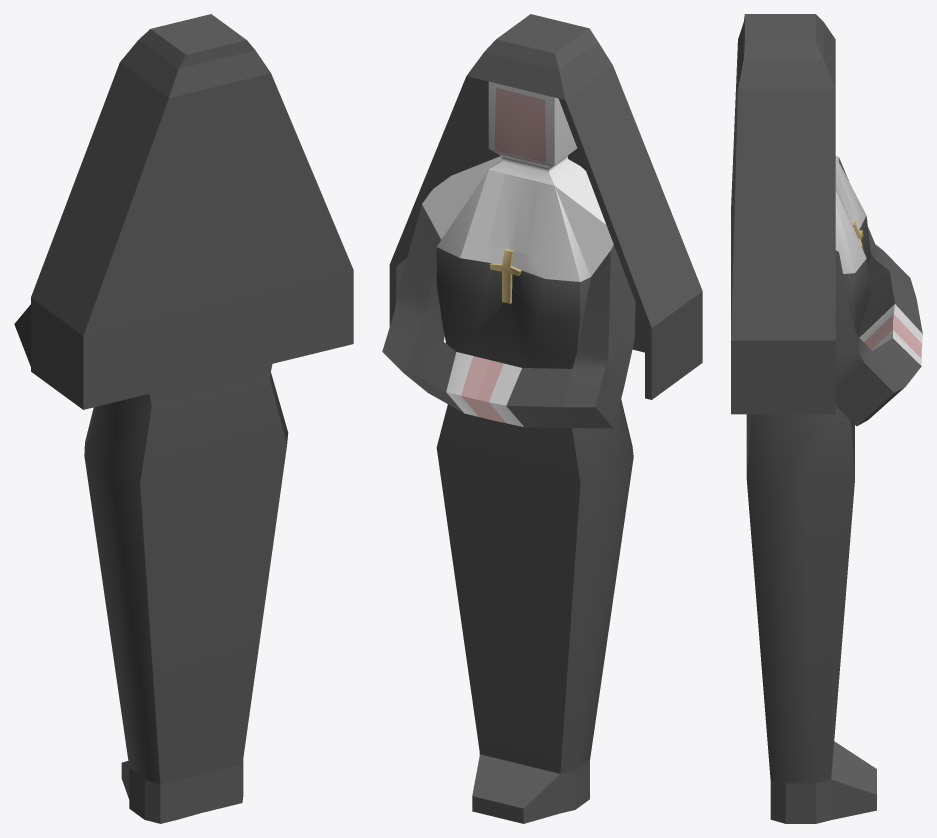
Rendered from nun_4.fbx.
3 views of the same model, side by side, from view 1: azimuth 30°, elevation 25°; view 2: azimuth 150°, elevation 25°; view 3: azimuth 270°, elevation 25° (orthographic). The views are drawn at different scales.
Parts seen in each view (by area): view 1: polySurface997; view 2: polySurface997; view 3: polySurface997.
Boxes of the visible parts, x1,y1,x2,y2 form: polySurface997: [14, 14, 353, 823]; polySurface997: [382, 14, 702, 823]; polySurface997: [731, 14, 922, 823].
Size of the model in its own units: 13.95 by 38.23 by 8.61.
